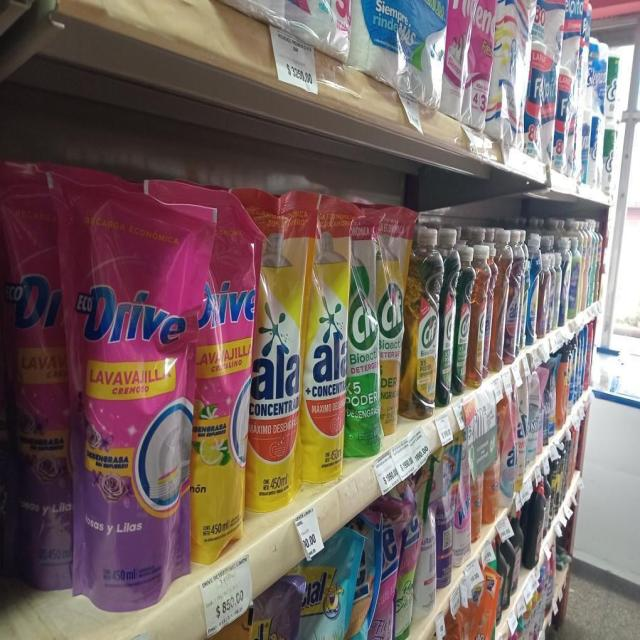ala_sachet_amarillo: (250, 185, 301, 514), (303, 188, 346, 484)
cif_conc_bot_amarilla: (404, 219, 439, 421)
cif_conc_botella_verde: (455, 228, 470, 398), (440, 225, 454, 407)
cif_conc_sachet_amarillo: (380, 205, 403, 438)
cif_conc_sachet_verde: (348, 202, 380, 458)
drive: (70, 195, 194, 612), (4, 174, 74, 597), (190, 196, 251, 566)
